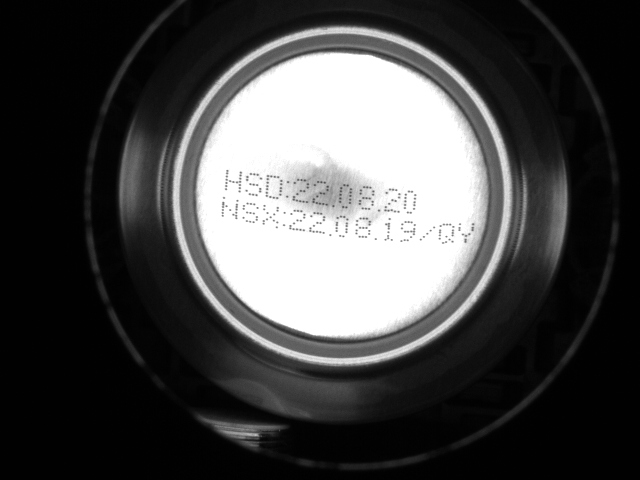/: (420, 220, 439, 246)
0: (403, 187, 422, 215), (337, 180, 353, 211), (333, 216, 352, 239)
1: (380, 218, 398, 243)
2: (379, 185, 403, 215), (289, 176, 312, 205), (312, 179, 332, 208), (287, 209, 307, 235), (309, 212, 327, 237)
8: (356, 182, 378, 211), (353, 217, 377, 242)
9: (401, 218, 417, 245)
D: (264, 174, 286, 200)
H: (222, 169, 246, 194)
N: (222, 199, 242, 221)
Q: (438, 223, 456, 245)
S: (241, 201, 261, 226), (247, 172, 263, 196)
X: (263, 205, 281, 228)
Y: (457, 220, 475, 245)
